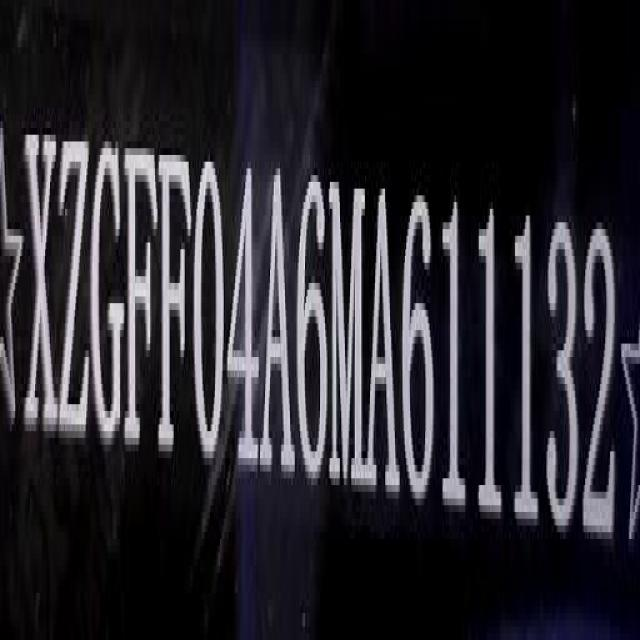0: (195, 149, 227, 480)
1: (512, 205, 538, 539), (477, 196, 502, 532), (442, 186, 461, 522)
2: (586, 220, 619, 552)
3: (547, 215, 581, 542)
4: (228, 154, 260, 486)
6: (403, 185, 436, 514), (296, 155, 328, 483)
A: (368, 174, 398, 504), (265, 161, 294, 491)
F: (127, 136, 159, 467), (160, 142, 191, 470)
G: (93, 130, 125, 458)
M: (329, 168, 368, 496)
X: (27, 122, 57, 446)
Z: (61, 124, 91, 454)
